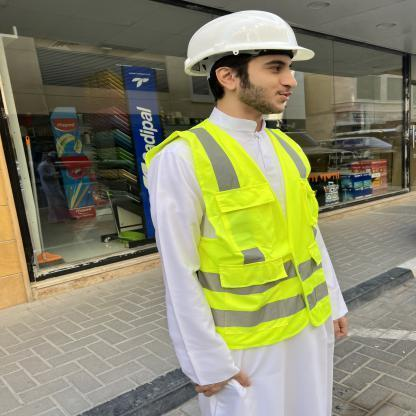helmet: (180, 7, 314, 61)
vest: (166, 123, 338, 337)
